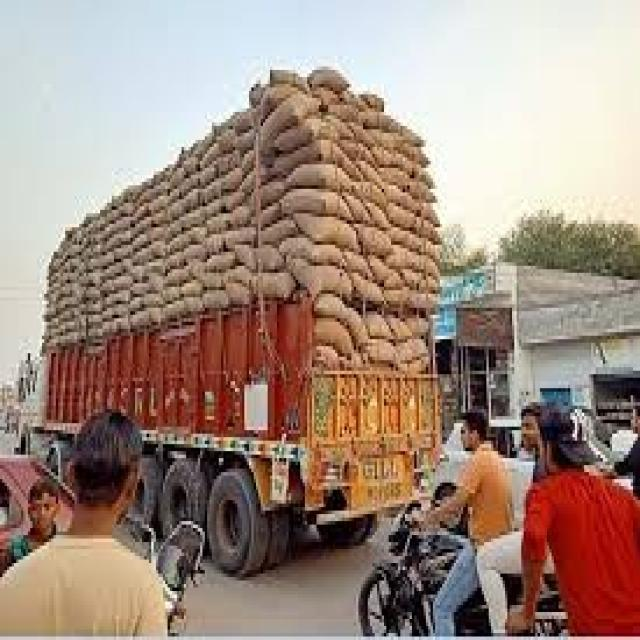uncovered: (21, 76, 442, 565)
